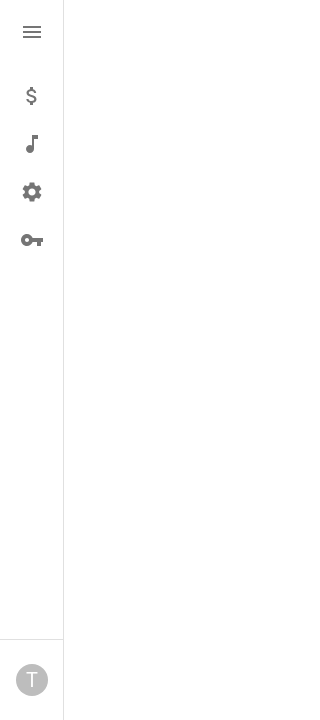
Test: SideMenu › deve recolher o menu ao clicar no botão de toggle
// Primeiro expande o menu
Click the button named "toggle menu": (32, 32) left=12, top=12, right=52, bottom=52
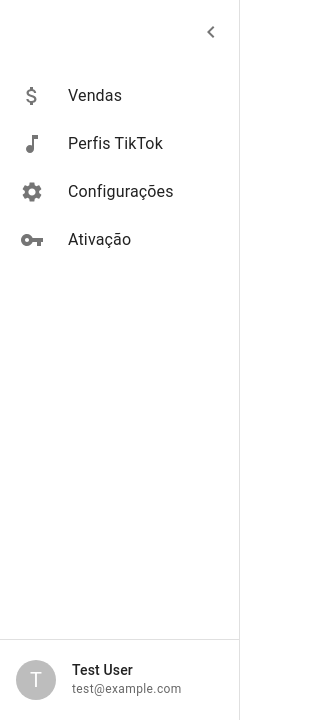
Check: the text "Vendas" is shown, box left=68, top=86, right=122, bottom=105
// Depois recolhe
Click the button named "toggle menu": (211, 32) left=191, top=12, right=231, bottom=52
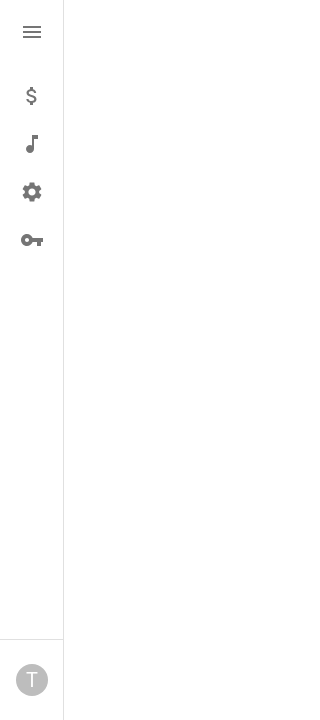
Check: the button "Vendas" is gone
